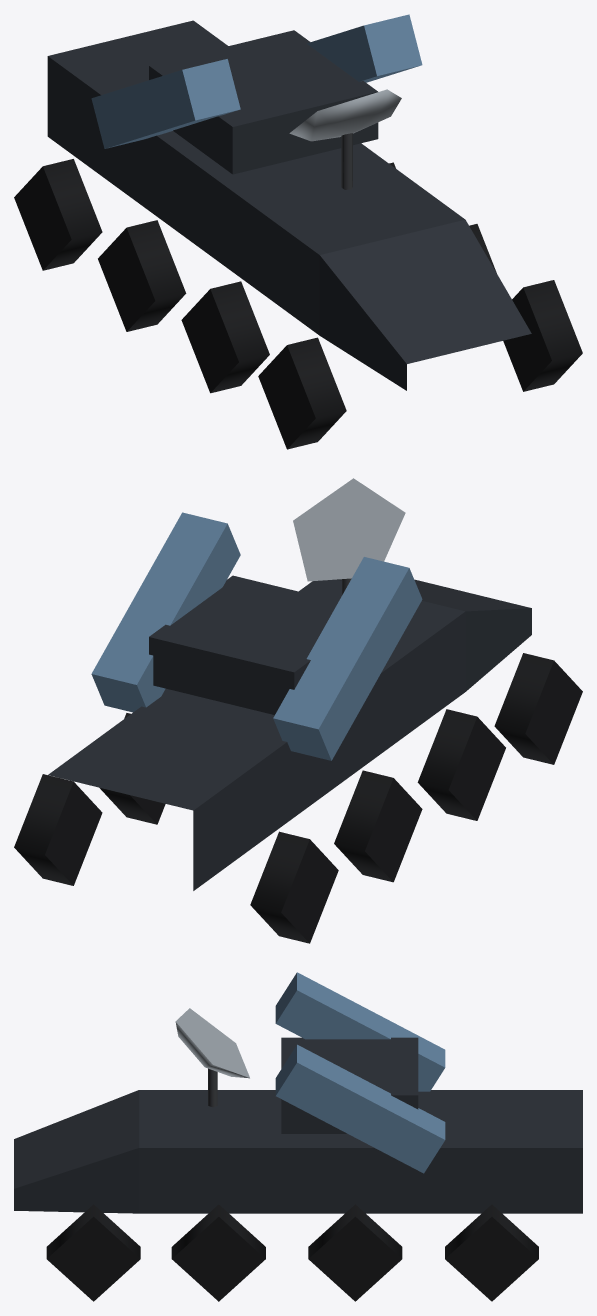
File: veh_ground_aa_wheeled_a09_lod2.glb
3 views of the same model, one above another, from view 1: azimuth 30°, elevation 25°; view 2: azimuth 150°, elevation 25°; view 3: azimuth 270°, elevation 25° (orthographic). The views are drawn at different scales.
Visible parts, largest first — view 1: body, turret, wheel_4, wheel_0, wheel_6, wheel_2, wheel_7, radar; view 2: body, turret, radar, wheel_0, wheel_1, wheel_2, wheel_4, wheel_6, wheel_3; view 3: body, turret, wheel_5, wheel_7, wheel_3, wheel_1, radar.
Boxes of the visible parts, x1,y1,x2,y2 form: body: (47,20,531,390); turret: (91,14,422,174); wheel_4: (181,281,269,393); wheel_0: (14,159,102,270); wheel_6: (258,337,346,449); wheel_2: (98,220,186,331); wheel_7: (503,280,582,391); radar: (289,89,401,189); body: (48,579,531,890); turret: (91,512,422,760); radar: (293,478,405,595); wheel_0: (250,831,338,943); wheel_1: (14,774,102,885); wheel_2: (334,770,422,882); wheel_4: (417,709,505,820); wheel_6: (494,653,582,764); wheel_3: (99,713,165,824); body: (14,1090,582,1213); turret: (275,972,445,1173); wheel_5: (171,1204,265,1301); wheel_7: (46,1204,140,1301); wheel_3: (308,1204,402,1301); wheel_1: (445,1204,538,1301); radar: (175,1008,249,1107).
Size of the model in its own units: 2.94 by 3.02 by 6.65.
